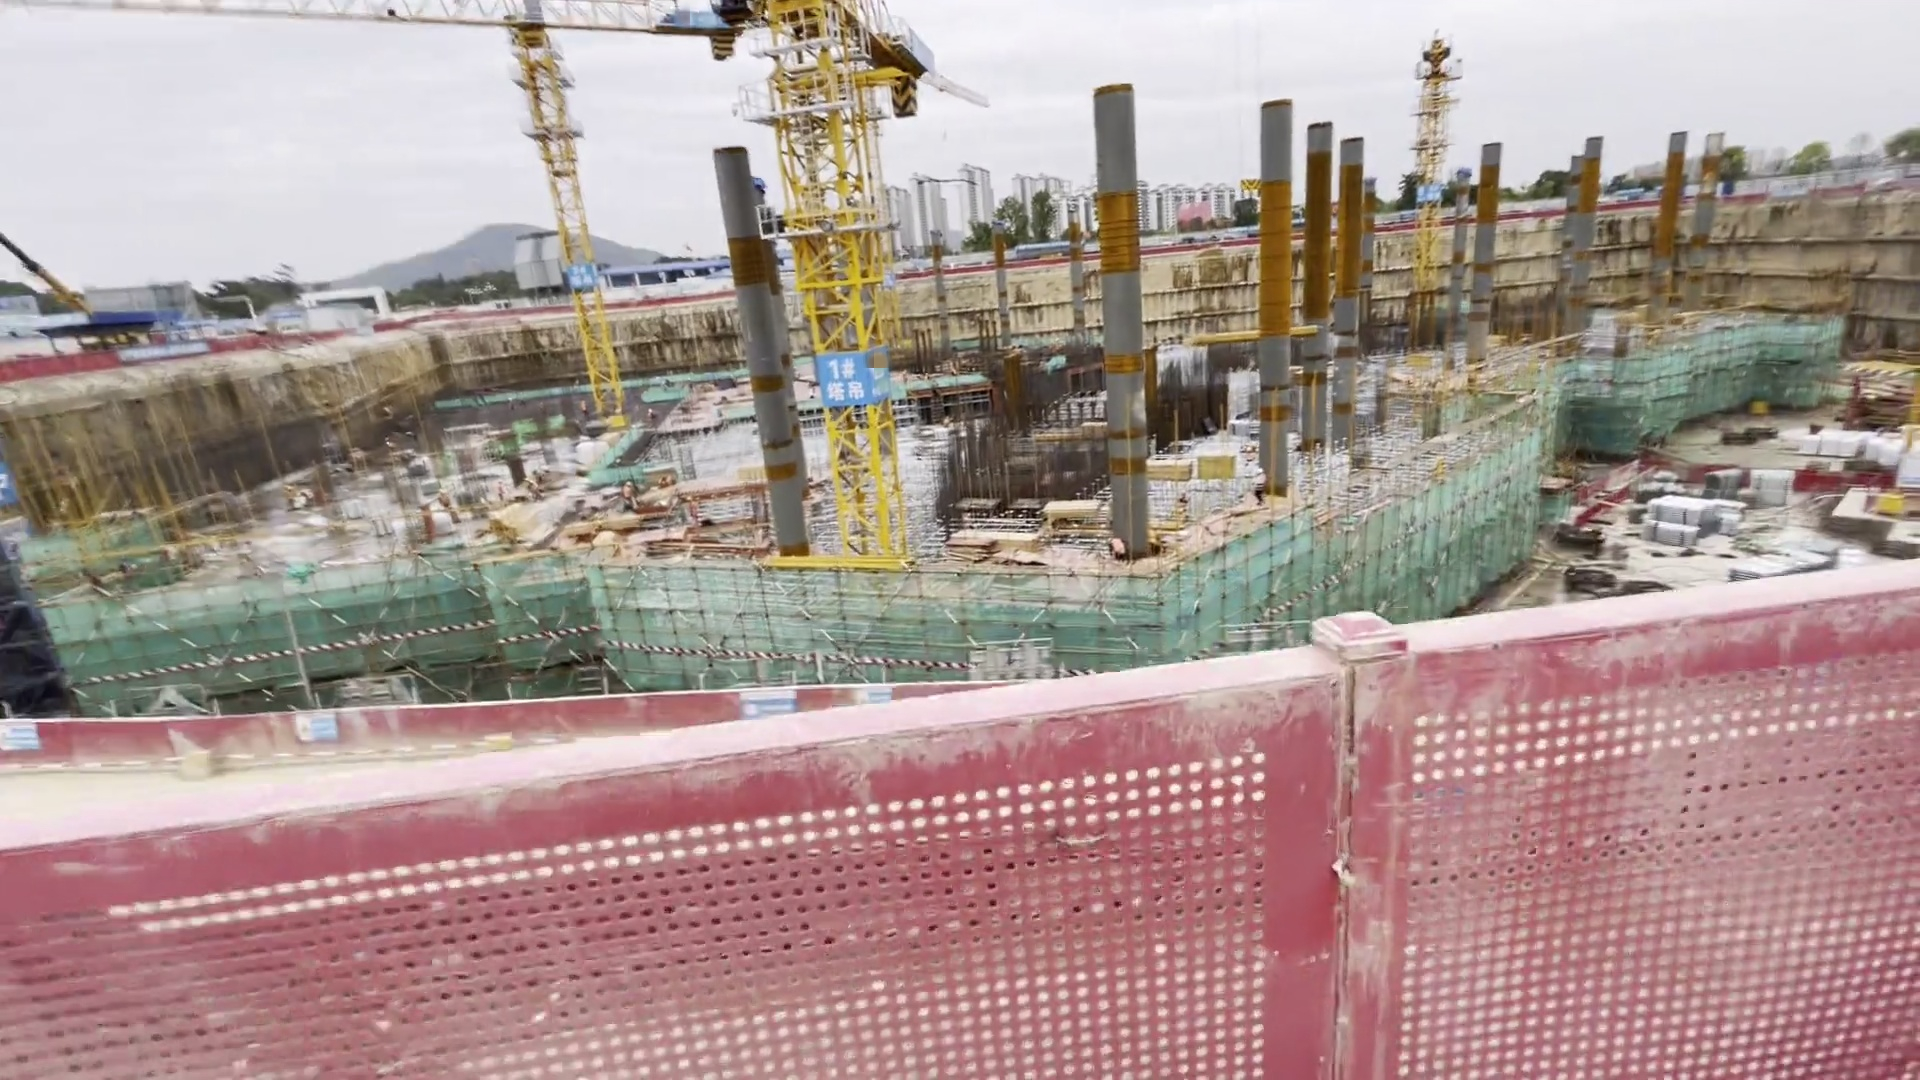fence: (1, 640, 1876, 1059)
scaffold: (1658, 458, 1782, 556)
slogan: (732, 684, 808, 723), (281, 707, 343, 744), (3, 724, 47, 754)
